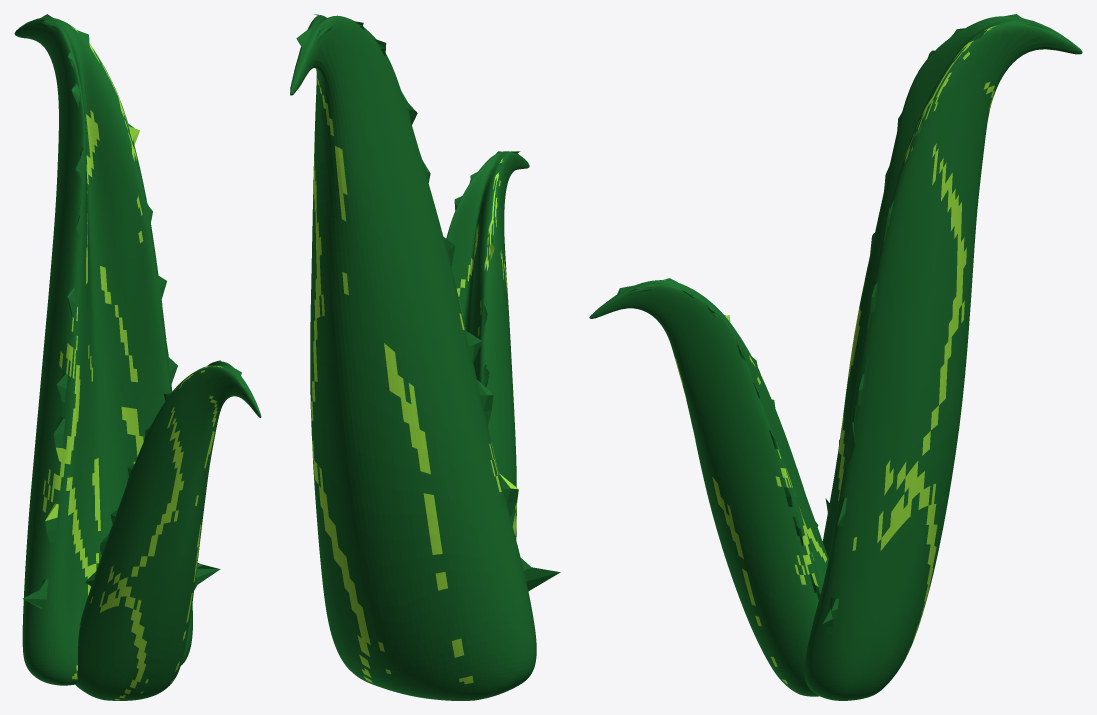
File: Alevera saksıda orta.fbx
3 views of the same model, side by side, from view 1: azimuth 30°, elevation 25°; view 2: azimuth 150°, elevation 25°; view 3: azimuth 270°, elevation 25° (orthographic). The views are drawn at different scales.
Visible parts, largest first — view 1: Cube.001, Cube.002; view 2: Cube.001, Cube.002; view 3: Cube.001, Cube.002.
Part boxes in pixels (bbox=[...]): Cube.001: bbox=[14, 14, 220, 685]; Cube.002: bbox=[75, 360, 261, 700]; Cube.001: bbox=[290, 14, 560, 700]; Cube.002: bbox=[446, 151, 529, 539]; Cube.001: bbox=[804, 14, 1082, 700]; Cube.002: bbox=[589, 278, 828, 696].
Size of the model in its own units: 314 by 920 by 614.
